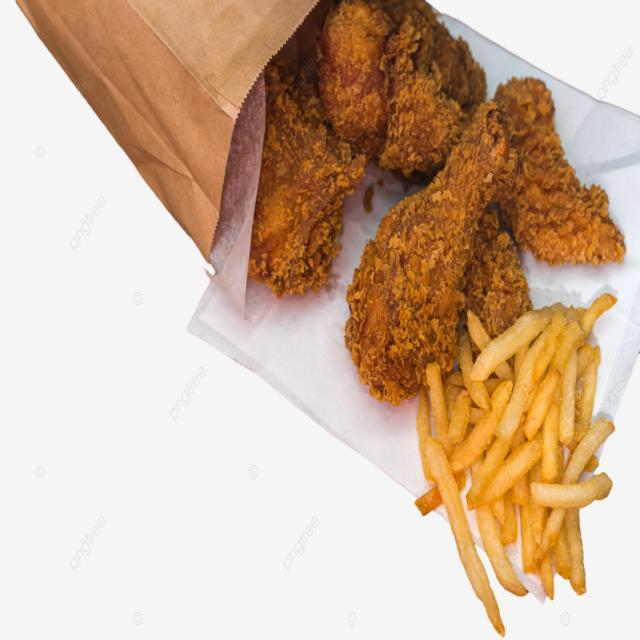carb: (416, 296, 620, 634)
meat: (347, 105, 521, 405), (250, 54, 367, 295), (495, 78, 627, 266), (369, 1, 485, 179), (315, 2, 401, 158), (466, 209, 533, 339)
